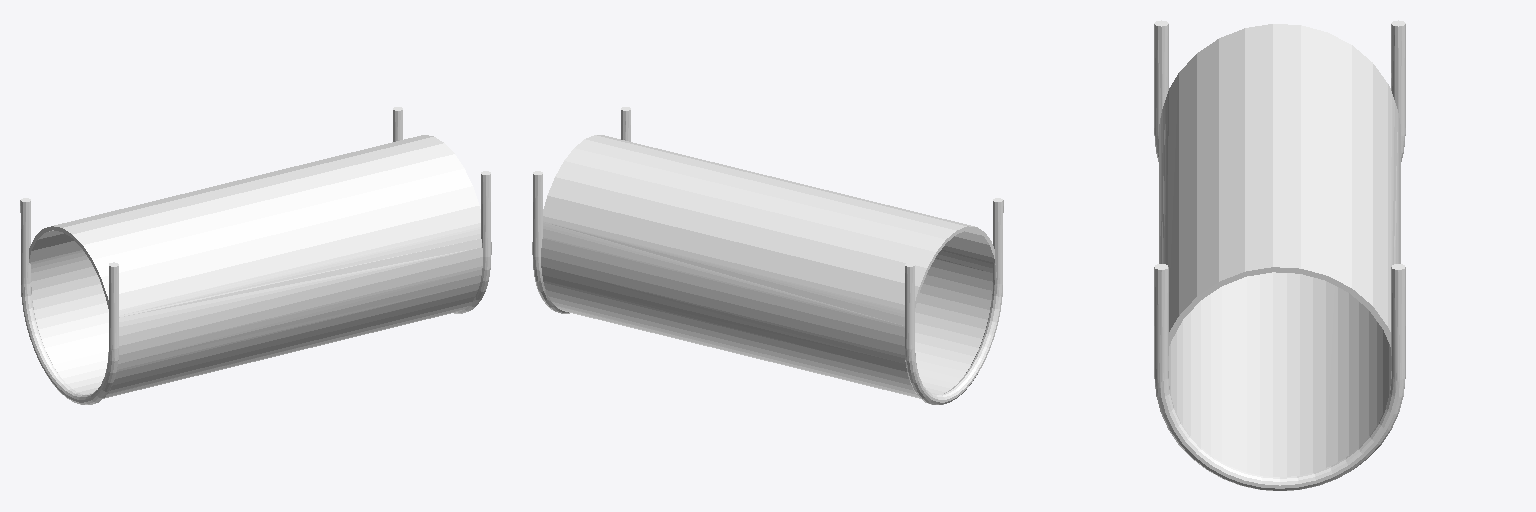
The robot description file, URDF, robot "tunnel":
<?xml version="1.0" encoding="utf-8"?>
<!-- This URDF was automatically created by SolidWorks to URDF Exporter! Originally created by [author] ([email redacted]) 
     Commit Version: 1.6.0-4-g7f85cfe  Build Version: 1.6.7995.38578
     For more information, please see http://wiki.ros.org/sw_urdf_exporter -->
<robot
  name="tunnel">
  <link
    name="base_link">
    <inertial>
      <origin
        xyz="0 0 0"
        rpy="0 0 0" />
      <mass
        value="109.894706044926" />
      <inertia
        ixx="18.6797333467675"
        ixy="0.00017390539198338"
        ixz="-0.00218217813623141"
        iyy="50.4187883410493"
        iyz="-0.000348627610773084"
        izz="50.7419510576589" />
    </inertial>
    <visual>
      <origin
        xyz="0 0 0"
        rpy="0 3.14 0" />
      <geometry>
        <mesh
          filename="./meshes/base_link.STL" />
      </geometry>
      <material
        name="">
        <color
          rgba="1 1 1 1" />
      </material>
    </visual>
    <collision>
      <origin
        xyz="0 0 0"
        rpy="1.57 3.14 0" />
      <geometry>
        <mesh
          filename="./meshes/base_link.STL" />
      </geometry>
    </collision>
  </link>
</robot>

--- What the picture shows (computed from the rendered views, not written in the file) ---
Views: 3 orthographic renders of the robot side by side, from view 1: azimuth 30°, elevation 25°; view 2: azimuth 150°, elevation 25°; view 3: azimuth 270°, elevation 25°.
Model tunnel with 1 links and 0 joints (none), rooted at base_link, posed every joint at zero.
Visible links, largest first — view 1: base_link; view 2: base_link; view 3: base_link.
Boxes of the visible links, x1,y1,x2,y2 form: base_link: (20,107,491,404); base_link: (532,107,1003,404); base_link: (1154,20,1405,490).
Size in the robot's own frame: 2.05 by 0.87 by 0.8581 metres.
Meshes: 1 distinct files referenced, 1 mesh visuals loaded (1 binary STL).
